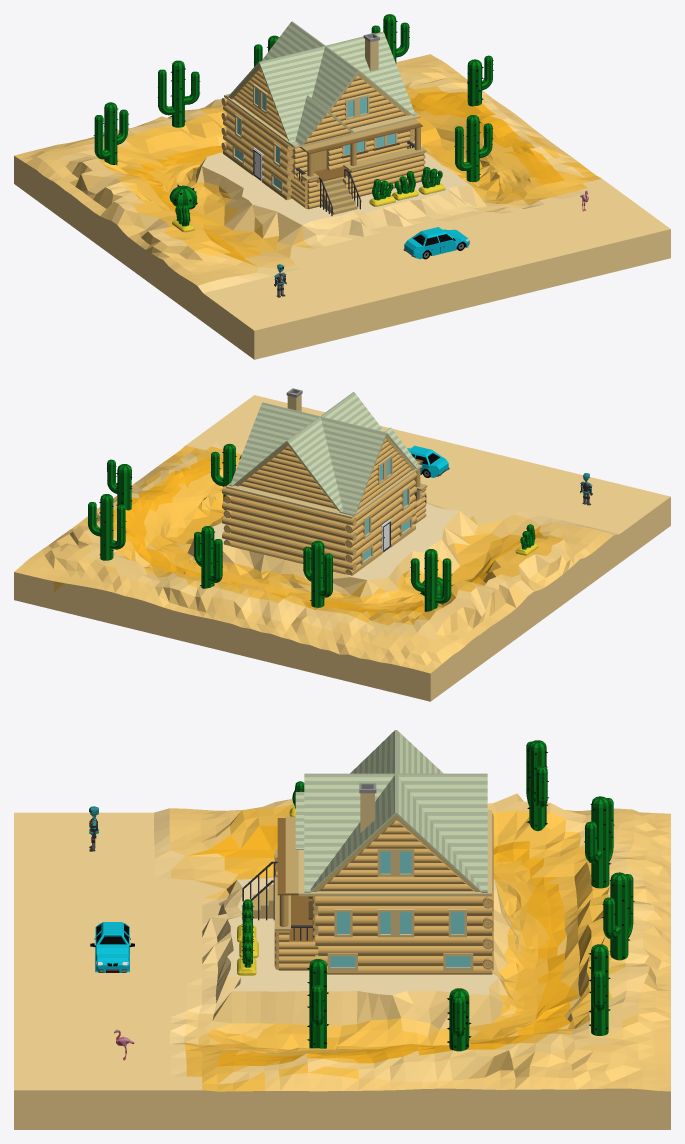
3 renders of one model, top to bottom at view 1: azimuth 30°, elevation 25°; view 2: azimuth 150°, elevation 25°; view 3: azimuth 270°, elevation 25°, orthographic. The views are drawn at different scales.
Parts seen in each view (by area): view 1: Cube.001, Cube.1516, Cylinder.037, Cylinder.044, Cylinder.045, VEHICLES_CAR, Cylinder.038, Cylinder.042, Cylinder.039, Cylinder.041, Sphere.023, Cylinder.040; view 2: Cube.001, Cube.1516, Cylinder.042, Cylinder.045, Cylinder.044, Cylinder.043, Cylinder.038, Cylinder.037, VEHICLES_CAR; view 3: Cube.001, Cube.1516, Cylinder.043, Cylinder.044, Cylinder.045, VEHICLES_CAR, Cylinder.042, Cylinder.037, Cylinder.038, Cylinder.041.
Part boxes in pixels (x1,y1,x2,y2): Cube.001: [14, 54, 670, 359]; Cube.1516: [221, 21, 426, 215]; Cylinder.037: [454, 115, 493, 182]; Cylinder.044: [157, 60, 200, 127]; Cylinder.045: [93, 102, 129, 164]; VEHICLES_CAR: [403, 227, 469, 259]; Cylinder.038: [467, 55, 493, 106]; Cylinder.042: [371, 14, 409, 63]; Cylinder.039: [369, 179, 395, 206]; Cylinder.041: [418, 167, 445, 194]; Sphere.023: [169, 184, 197, 209]; Cylinder.040: [392, 171, 418, 200]; Cube.001: [14, 395, 670, 701]; Cube.1516: [222, 388, 427, 575]; Cylinder.042: [88, 494, 126, 560]; Cylinder.045: [410, 549, 452, 611]; Cylinder.044: [303, 540, 333, 607]; Cylinder.043: [193, 526, 222, 588]; Cylinder.038: [107, 459, 131, 510]; Cylinder.037: [210, 443, 241, 510]; VEHICLES_CAR: [407, 445, 449, 477]; Cube.001: [14, 793, 670, 1129]; Cube.1516: [242, 730, 493, 974]; Cylinder.043: [602, 872, 634, 960]; Cylinder.044: [584, 796, 614, 888]; Cylinder.045: [526, 740, 548, 831]; VEHICLES_CAR: [90, 922, 134, 972]; Cylinder.042: [588, 944, 610, 1035]; Cylinder.037: [307, 959, 328, 1048]; Cylinder.038: [447, 988, 471, 1051]; Cylinder.041: [237, 932, 256, 975].
Size of the model in its own units: 4002 by 1627 by 4001.
Materials: 39 (3 with a texture image).
